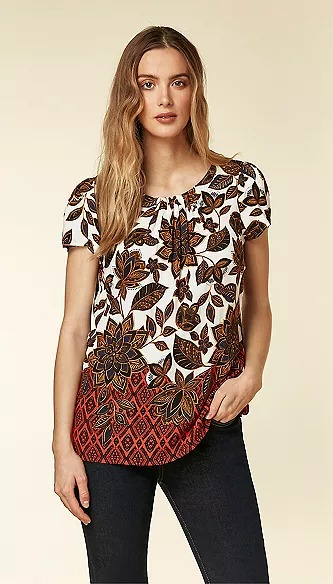C_short blouse: (52, 157, 274, 458)
